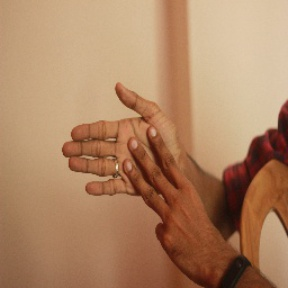M: (59, 77, 207, 229)
